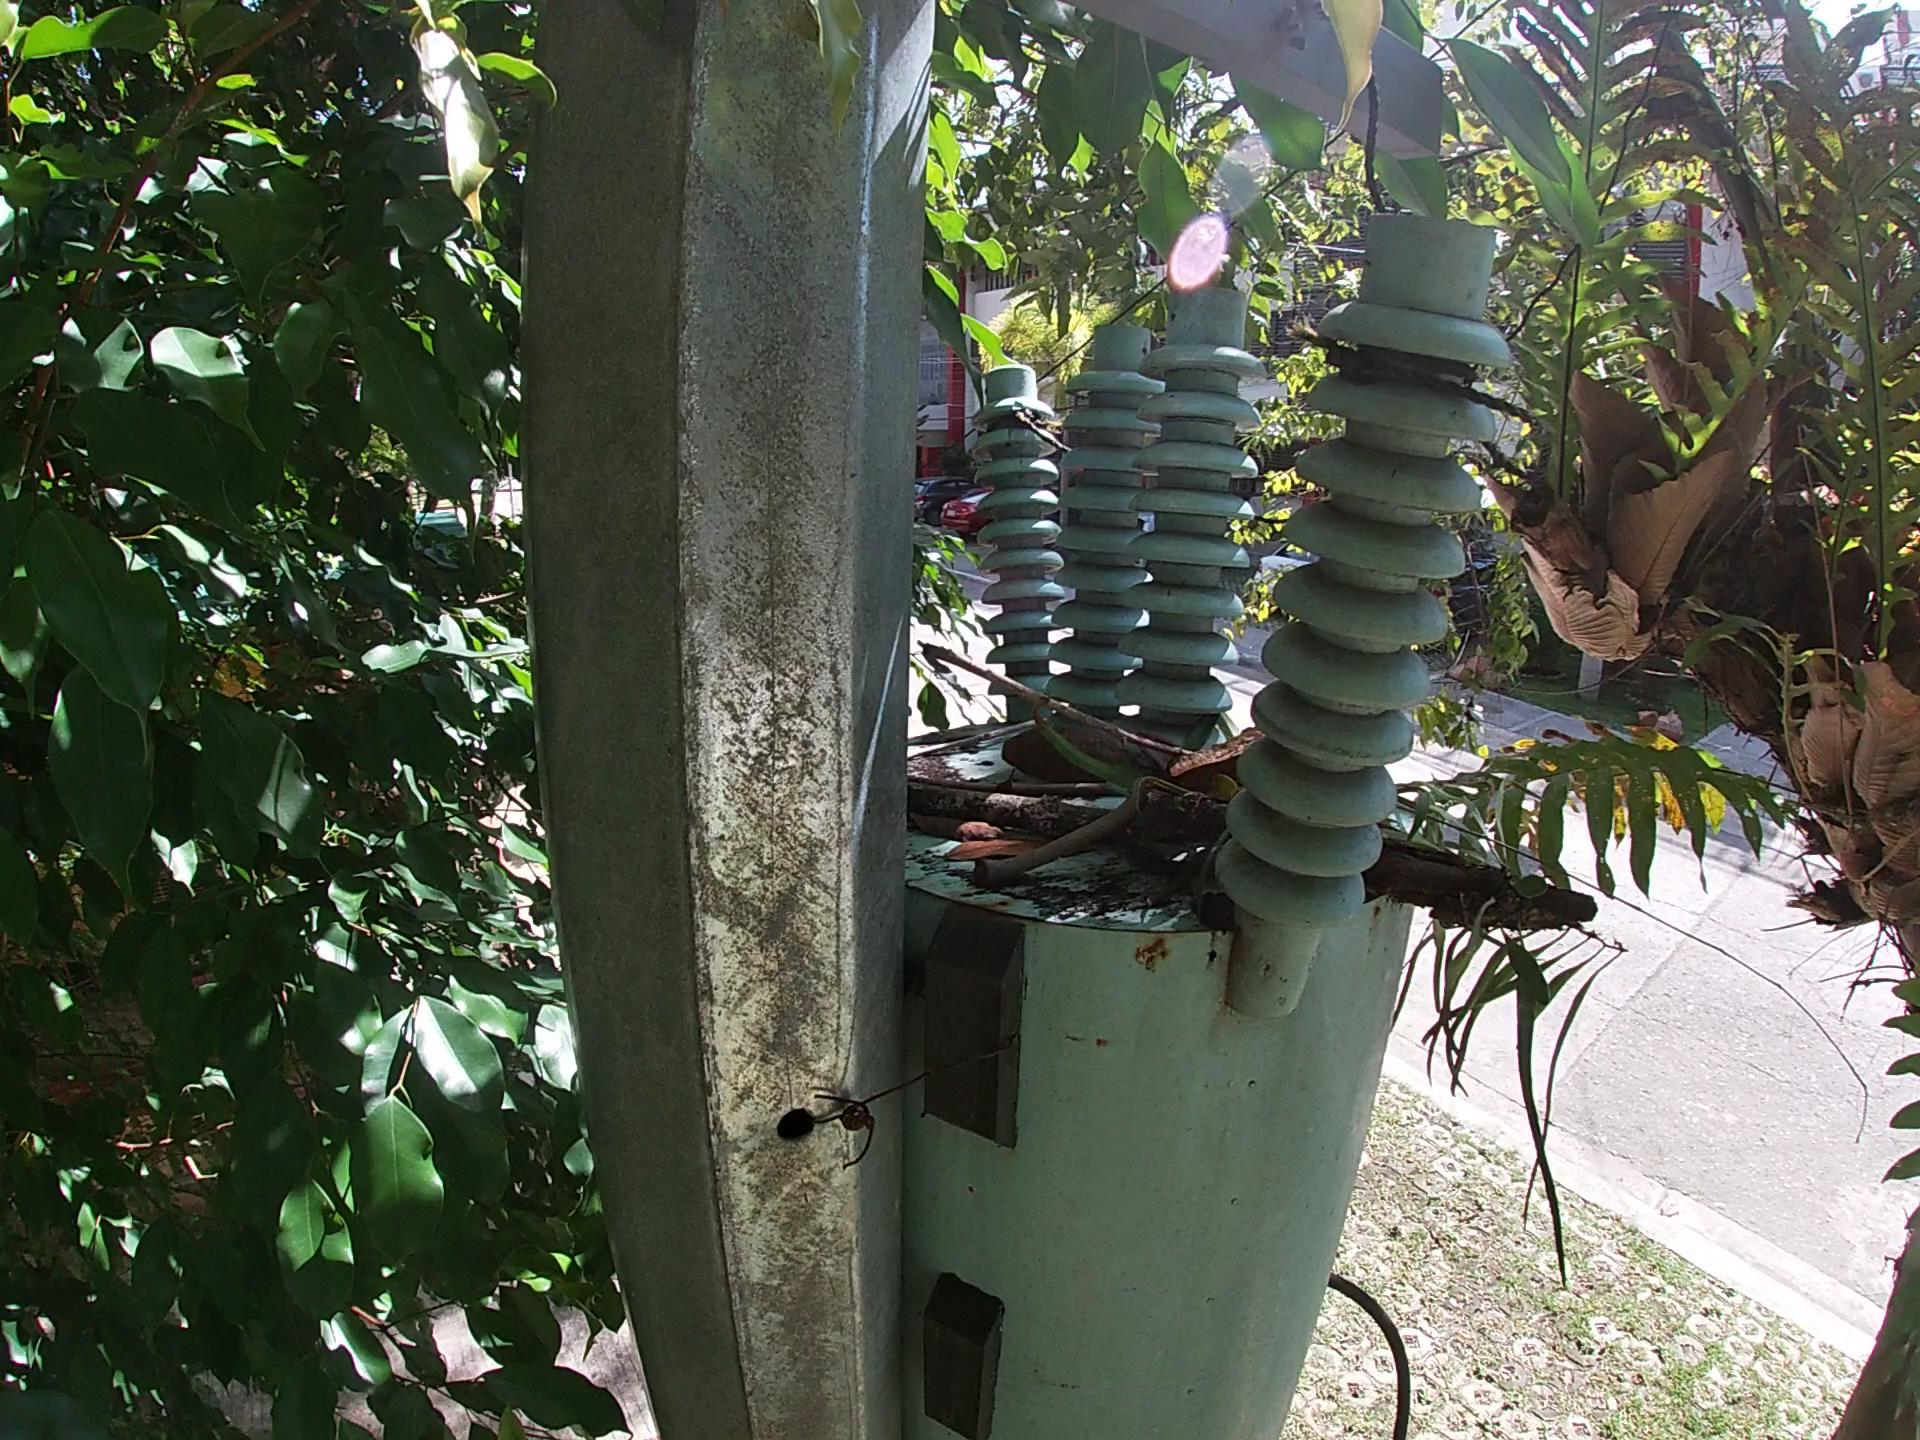leaf: (931, 805, 1025, 923)
mahogany fruit: (915, 644, 1108, 726)
tree branch: (910, 644, 1857, 997), (930, 773, 1572, 939), (1001, 805, 1150, 935)
